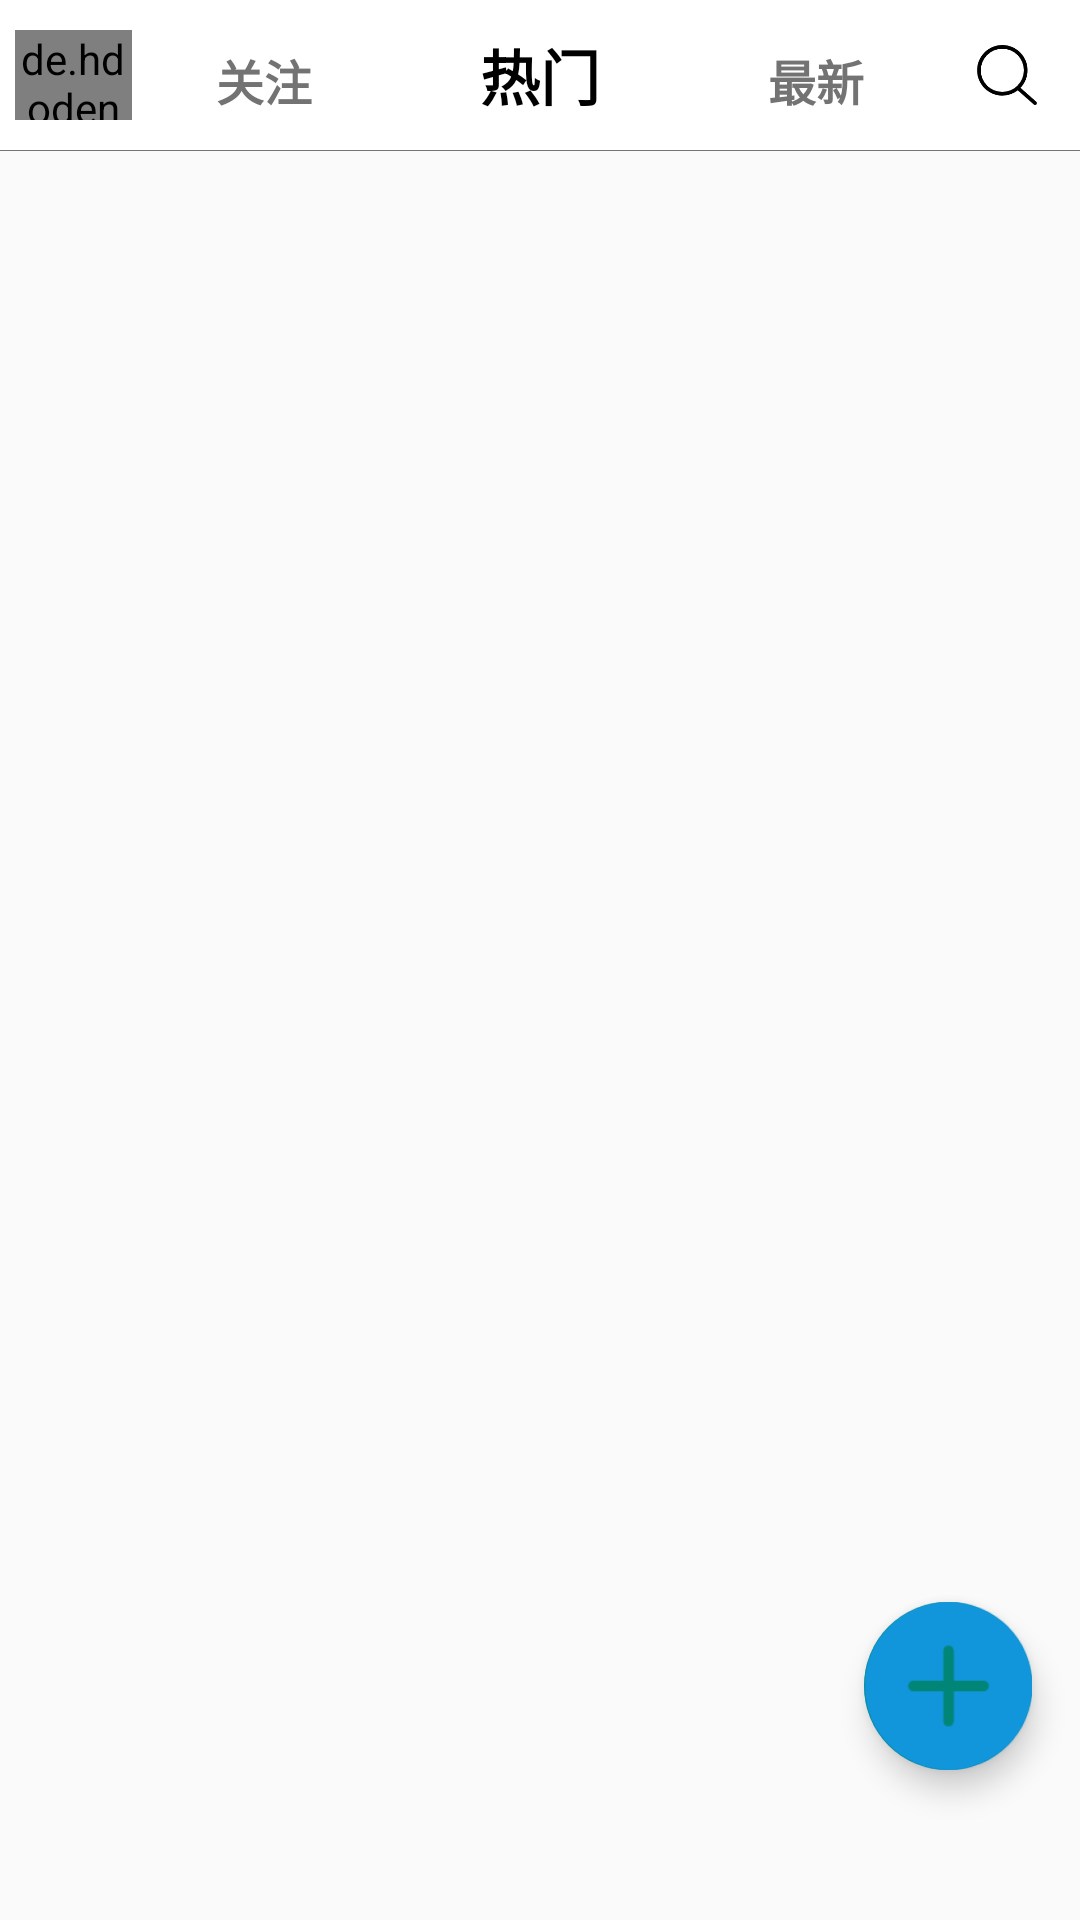

Point at icon controls on the screen. Image size 1080*1920, points as (x=x, y=y).
search: (x=1007, y=75)
